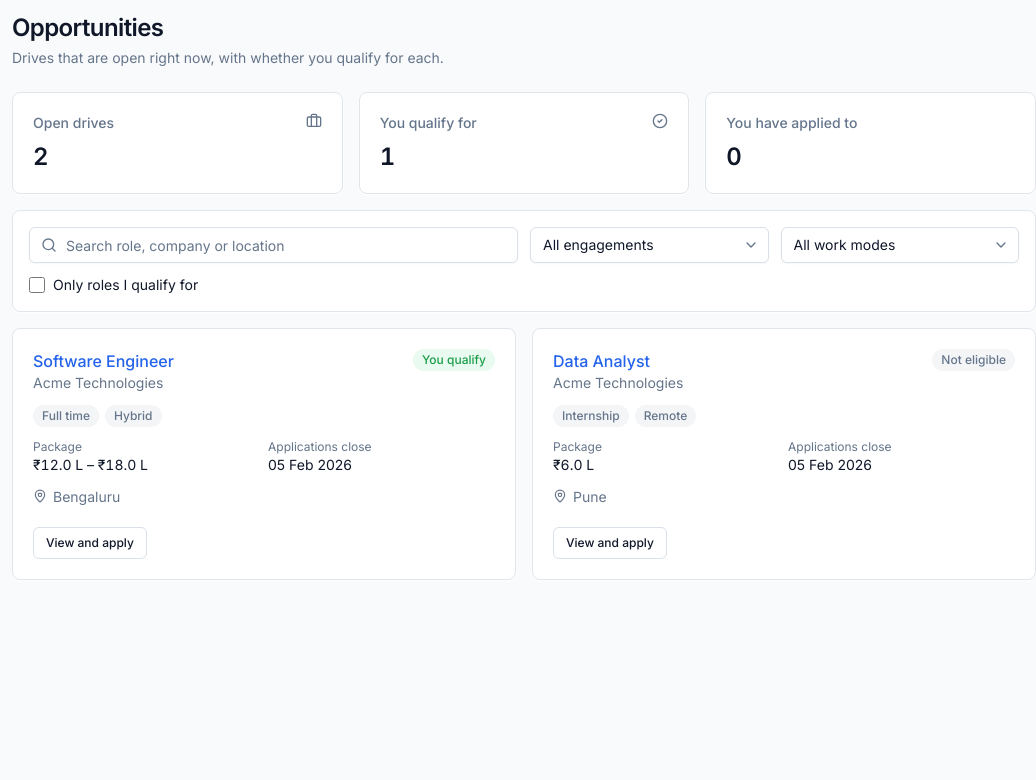
Scenario: Student jobs page › filters by search without refetching
Expected: the link "Software Engineer" is shown, x1=33 y1=349 x2=174 y2=373
Type "analyst" into the search field named "Search opportunities" at (274, 245), box x1=29 y1=227 x2=518 y2=263
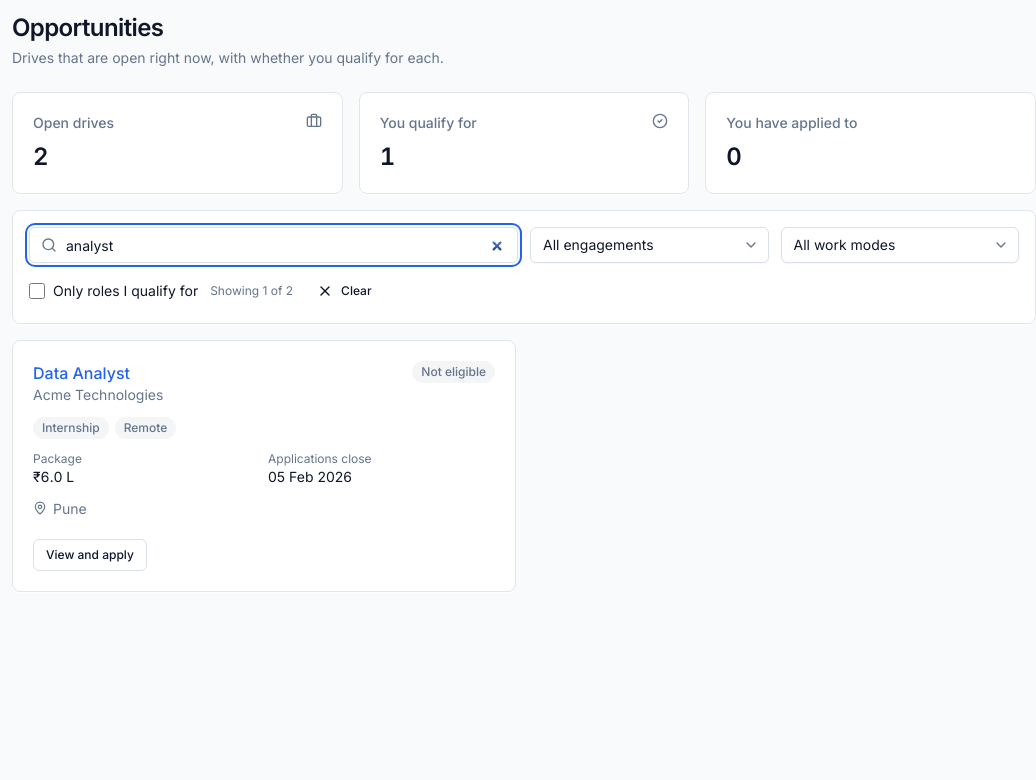
Expected: the link "Data Analyst" is shown, x1=33 y1=363 x2=130 y2=383
Expected: the link "Software Engineer" is gone
